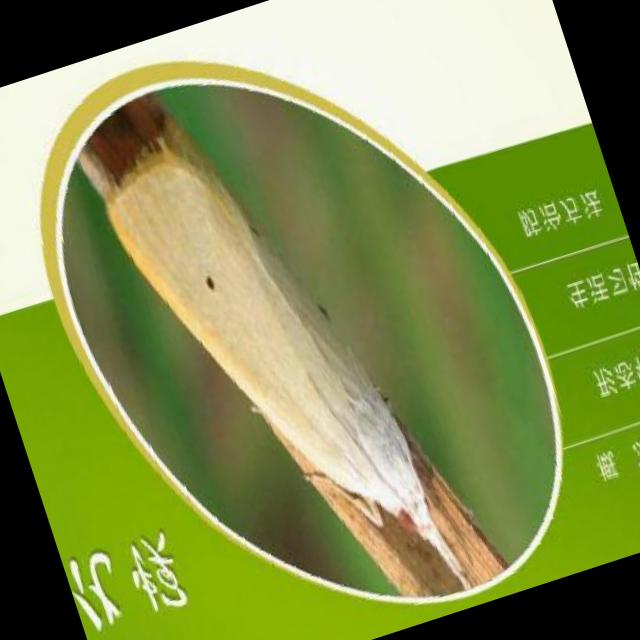stem-borer: (95, 118, 472, 590)
